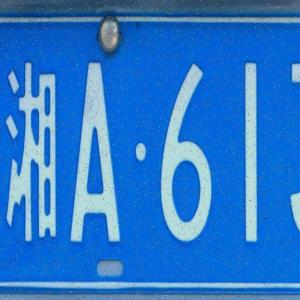Plate: (0, 15, 300, 292)
